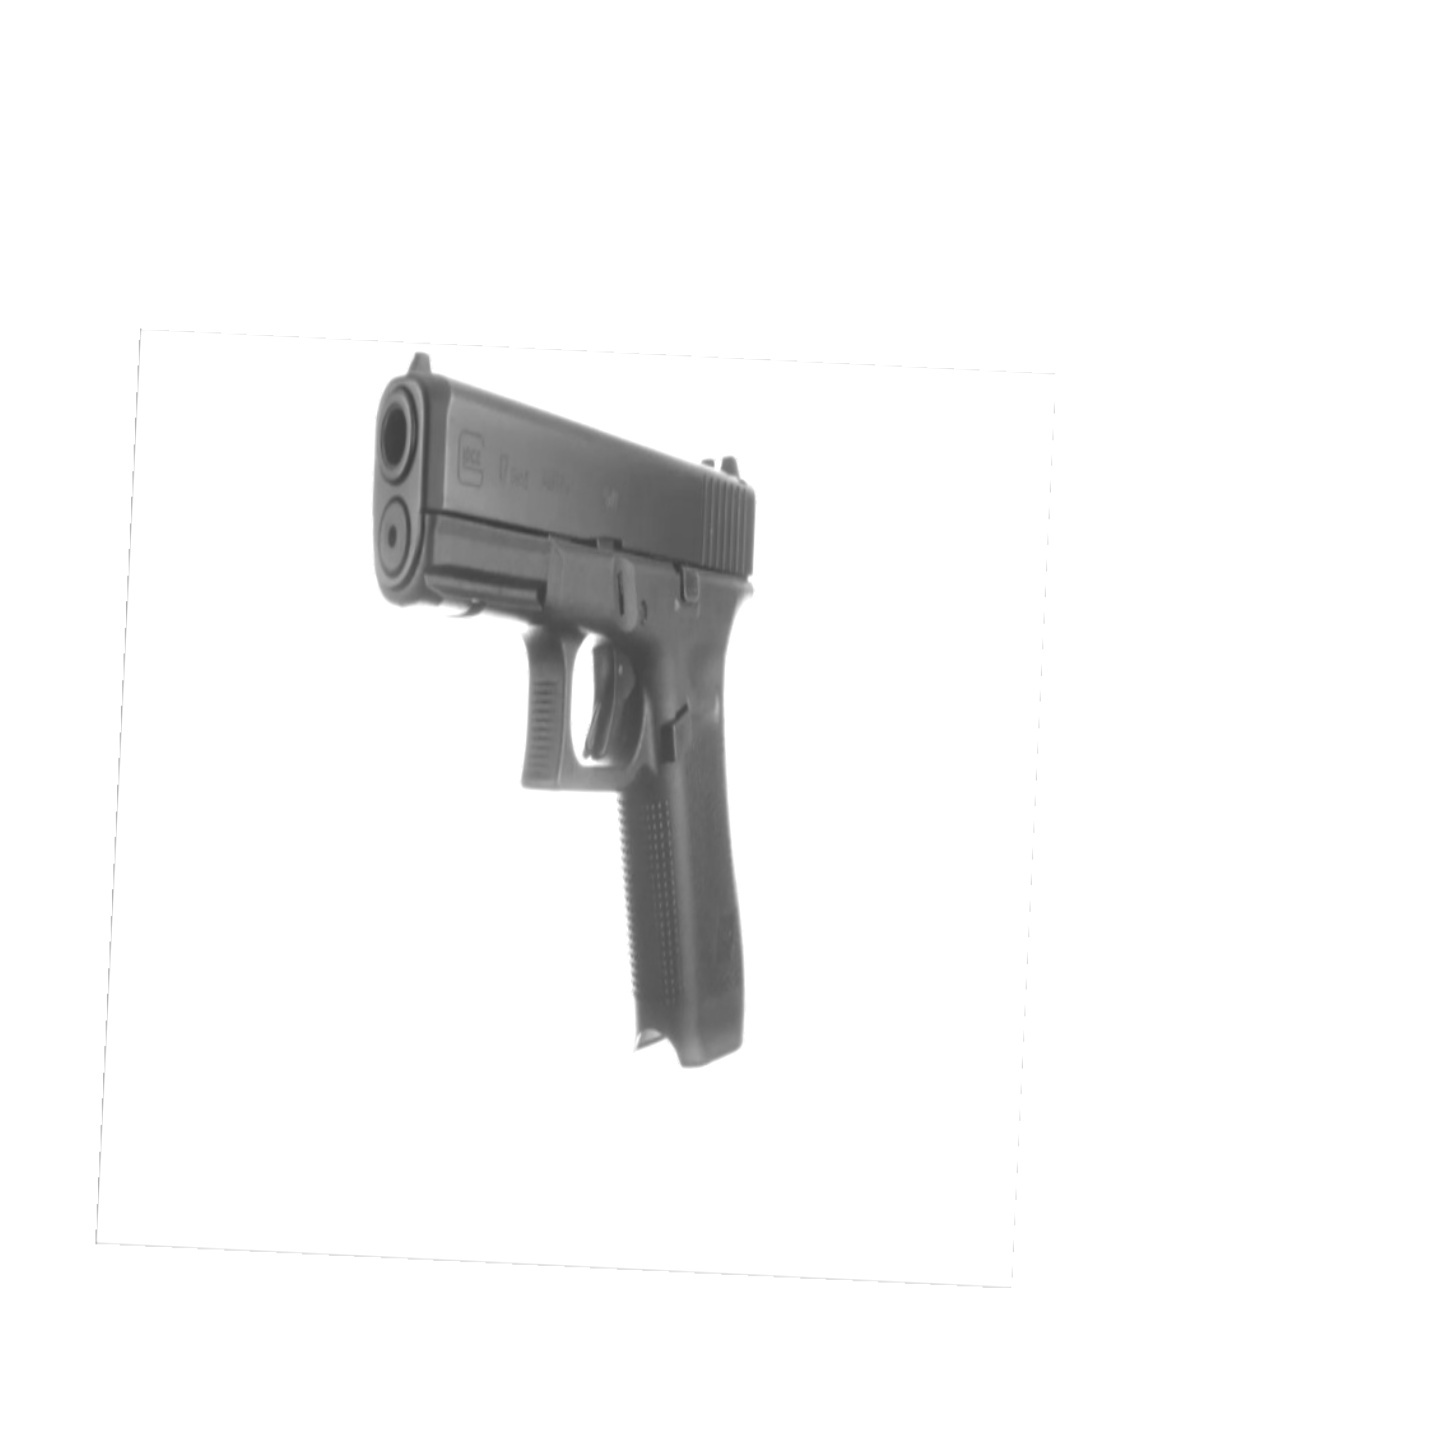gun: (367, 349, 769, 1067)
